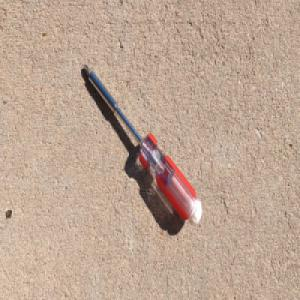Screwdriver: (82, 62, 203, 228)
